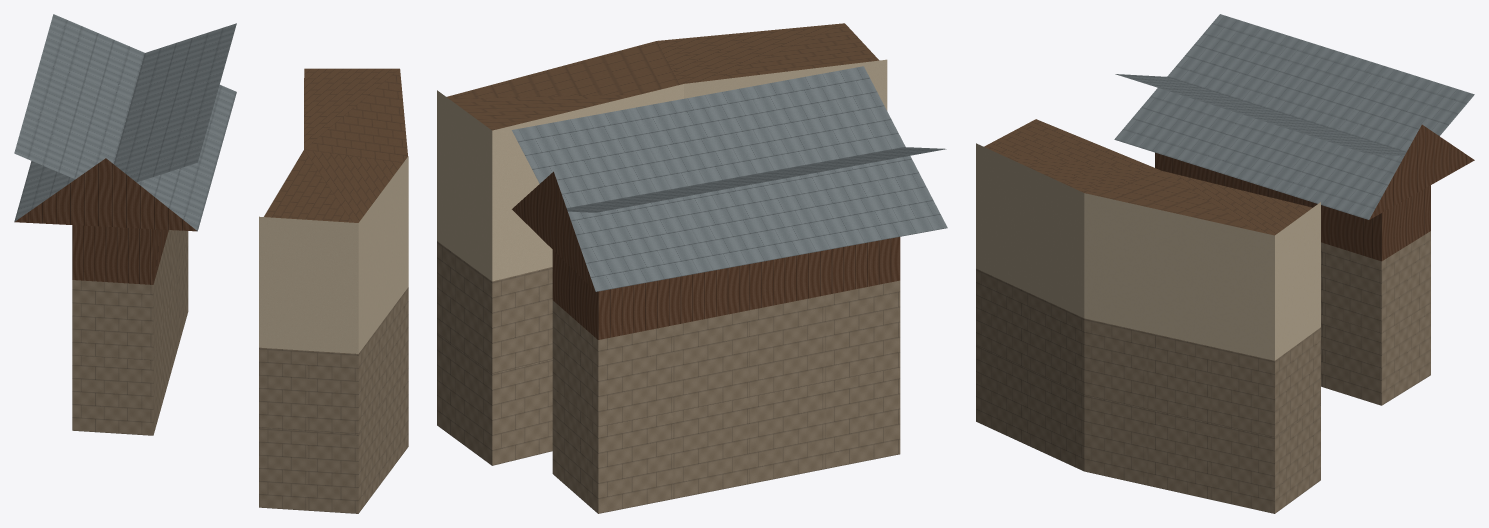
File: bld_c12_35_420.gltf
3 views of the same model, side by side, from view 1: azimuth 30°, elevation 25°; view 2: azimuth 150°, elevation 25°; view 3: azimuth 270°, elevation 25° (orthographic). The views are drawn at different scales.
Visible parts, largest first — view 1: bld_c12_35_420; view 2: bld_c12_35_420; view 3: bld_c12_35_420.
Part boxes in pixels (x1=…): bld_c12_35_420: x1=14, y1=14, x2=408, y2=513; bld_c12_35_420: x1=437, y1=23, x2=947, y2=513; bld_c12_35_420: x1=976, y1=14, x2=1474, y2=513.
Size of the model in its own units: 12.94 by 9.55 by 14.1.
7 materials, 7 textured.
